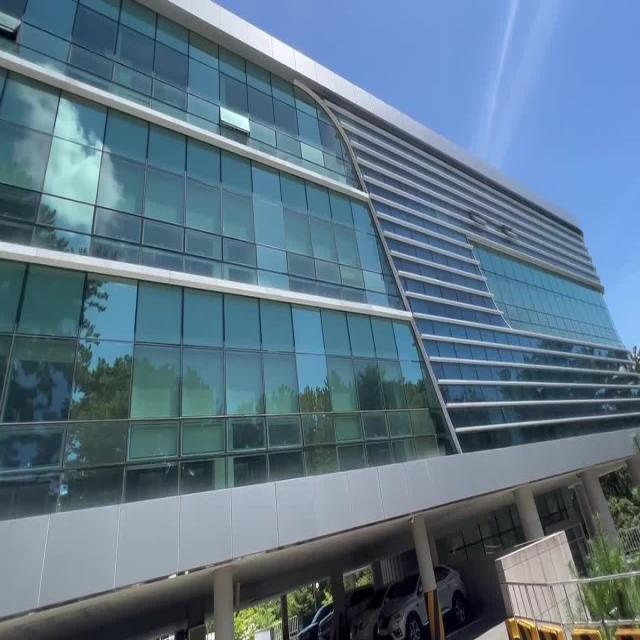building: (6, 3, 640, 504)
